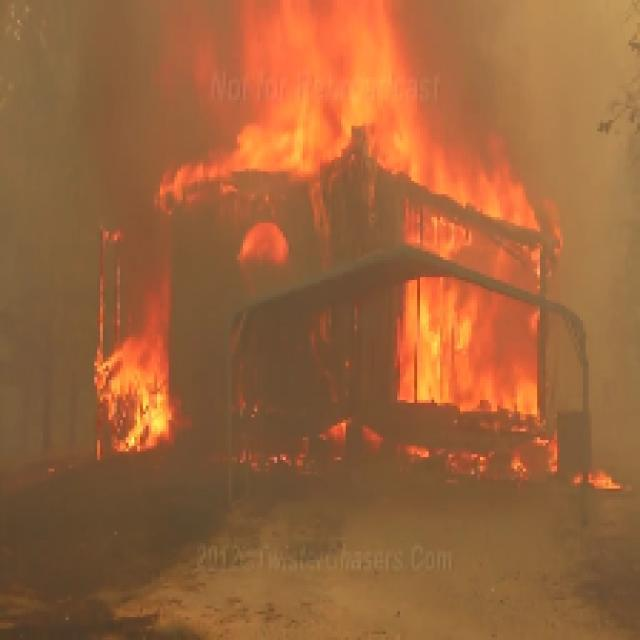Fire: (407, 175, 547, 407), (236, 9, 404, 157), (89, 348, 172, 437)
